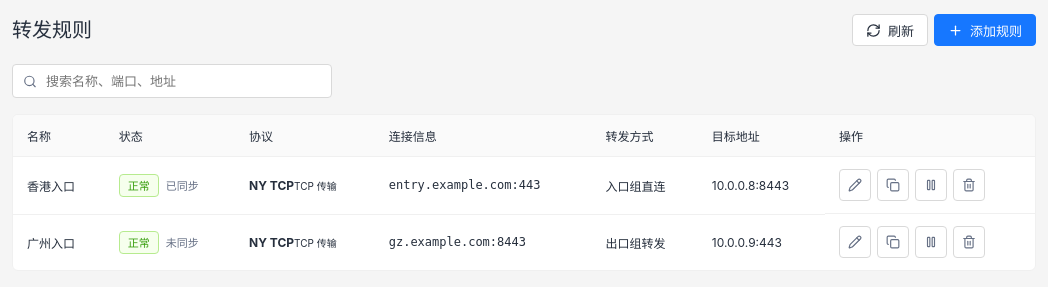
Test: ServicesPage › renders the customer rules as a searchable NY-style table
This screenshot has width=1048, height=287.
Expected: the table with class "data-table" is shown, [13,115,1035,270]
Type "广州" into the search field with placeholder "搜索名称、端口、地址".
click(182, 81); type("广州")  # box [44,72,321,90]
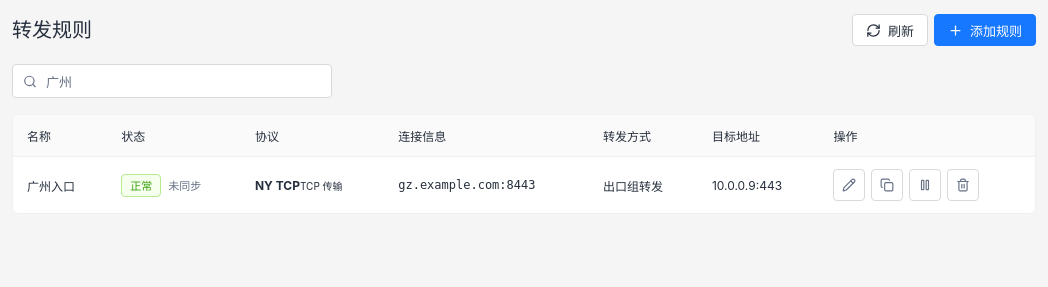
Expected: the text "广州入口" is shown, [27,178,75,194]
Now the text "香港入口" is gone
